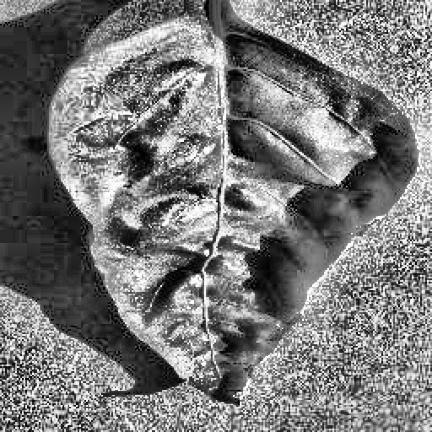leaf: (49, 0, 417, 402)
